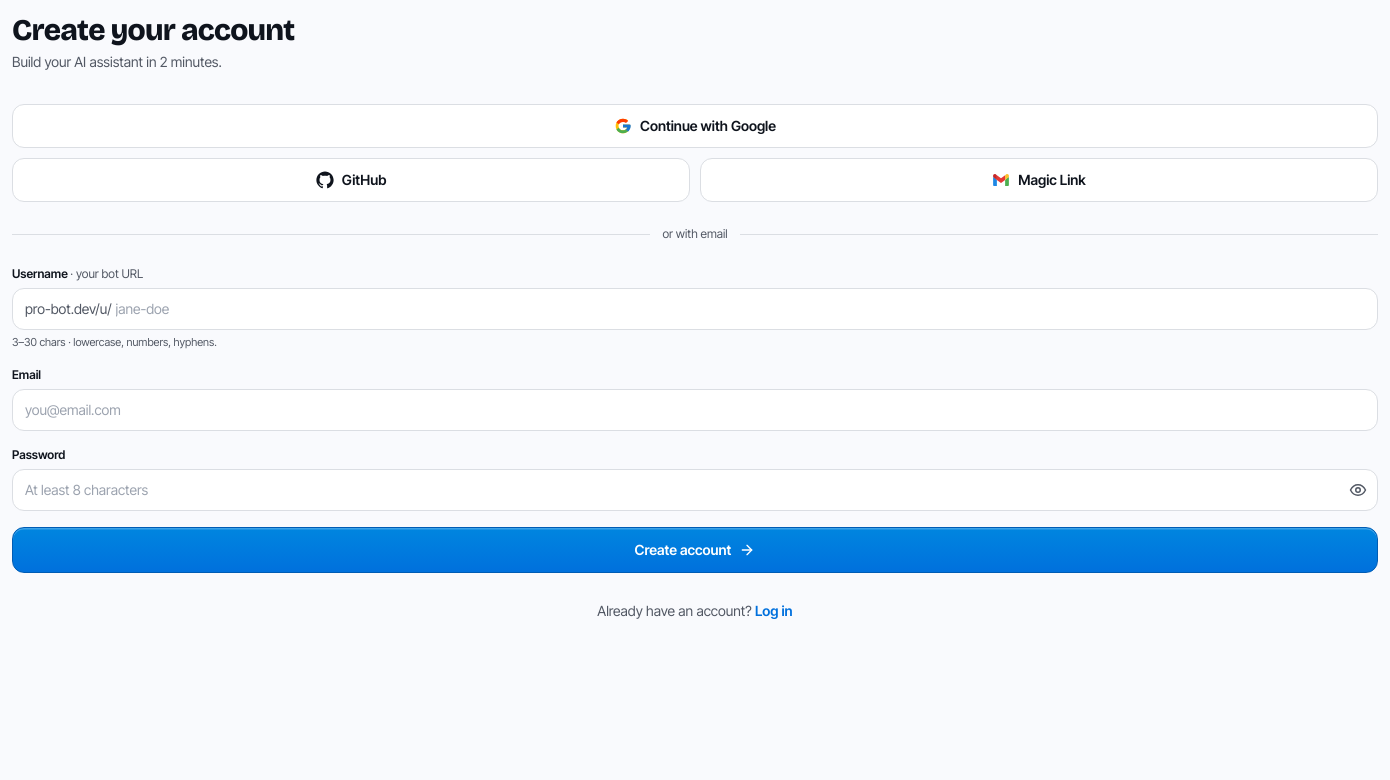
Test: RegisterForm › flags a taken username inline and disables submit
Step 1. Type "takenname" into the field labelled "Username · your bot URL" → (746, 309), box top-left (116, 289), bottom-right (1377, 329)
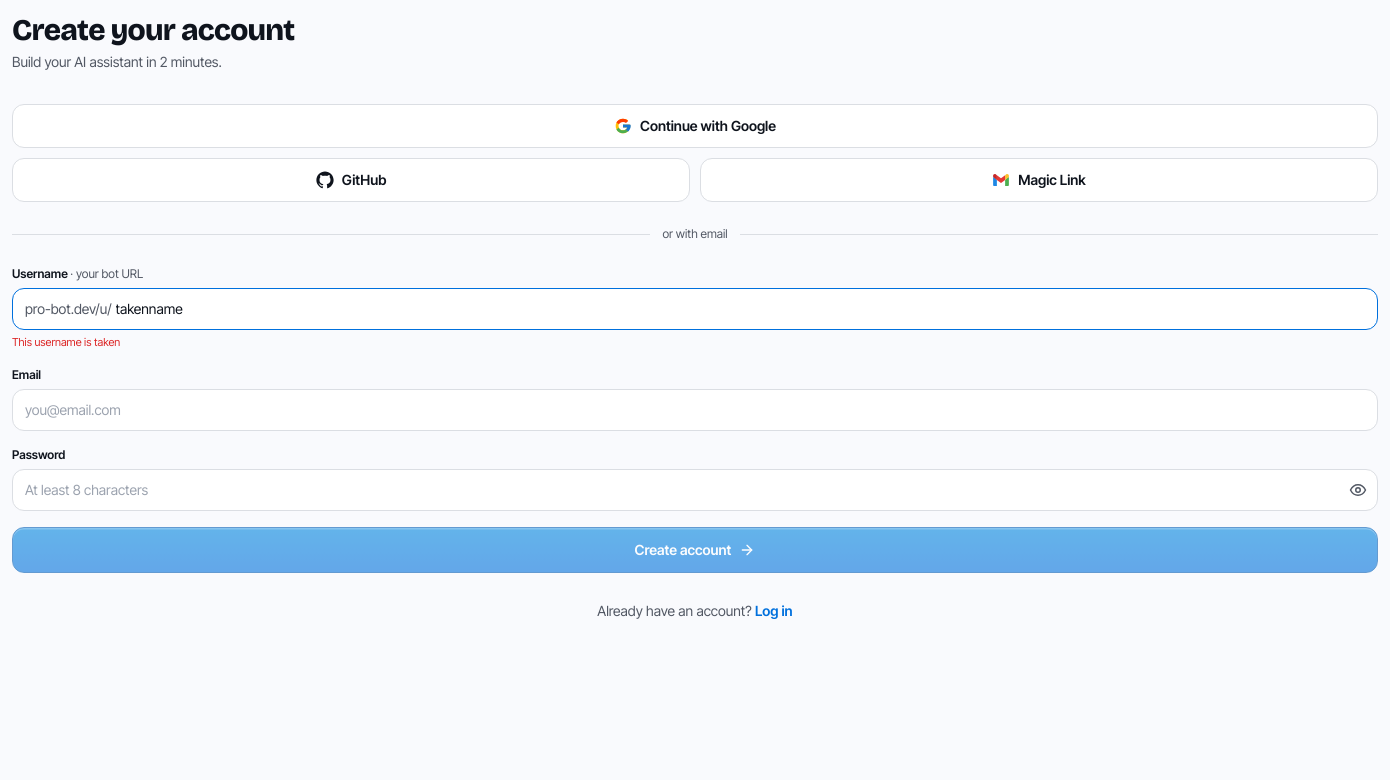
Now the text "This username is taken" is shown, box top-left (12, 335), bottom-right (120, 349)
Now the button "Create account" is disabled, box top-left (12, 526), bottom-right (1378, 572)
